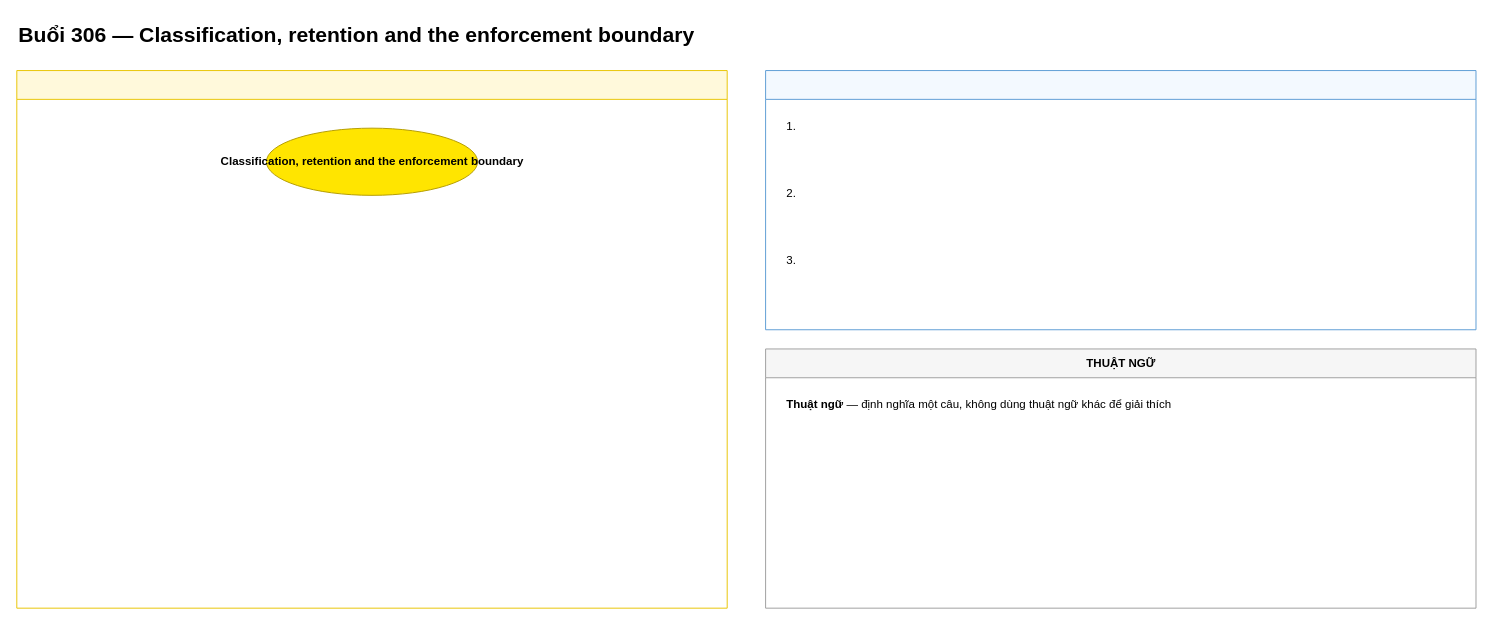
Some shapes in this 1493 by 625 pixel diagram are drawn without their labels. Here are the shapes that lost their labels. From the top down, the box of each, then its label:
(765, 70, 1476, 330): KEY TAKEAWAY — ba điều phải nhớ
(16, 70, 727, 608): MINDMAP
